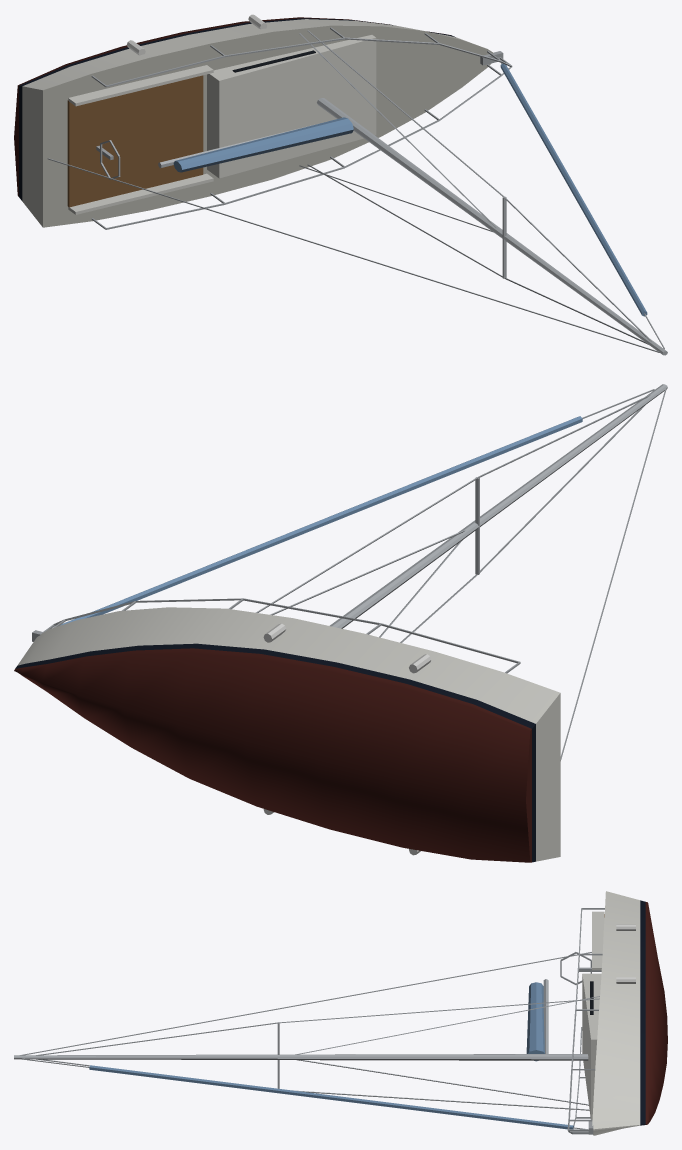
Rendered from boat-sail.glb.
3 renders of one model, top to bottom at view 1: azimuth 30°, elevation 25°; view 2: azimuth 150°, elevation 25°; view 3: azimuth 270°, elevation 25°, orthographic. The views are drawn at different scales.
Parts seen in each view (by area): view 1: boat-sail; view 2: boat-sail; view 3: boat-sail.
Part boxes in pixels (bbox=[...]): boat-sail: bbox=[14, 14, 667, 355]; boat-sail: bbox=[14, 384, 667, 862]; boat-sail: bbox=[14, 891, 667, 1135].
Size of the model in its own units: 11.1 by 3.77 by 16.75.
